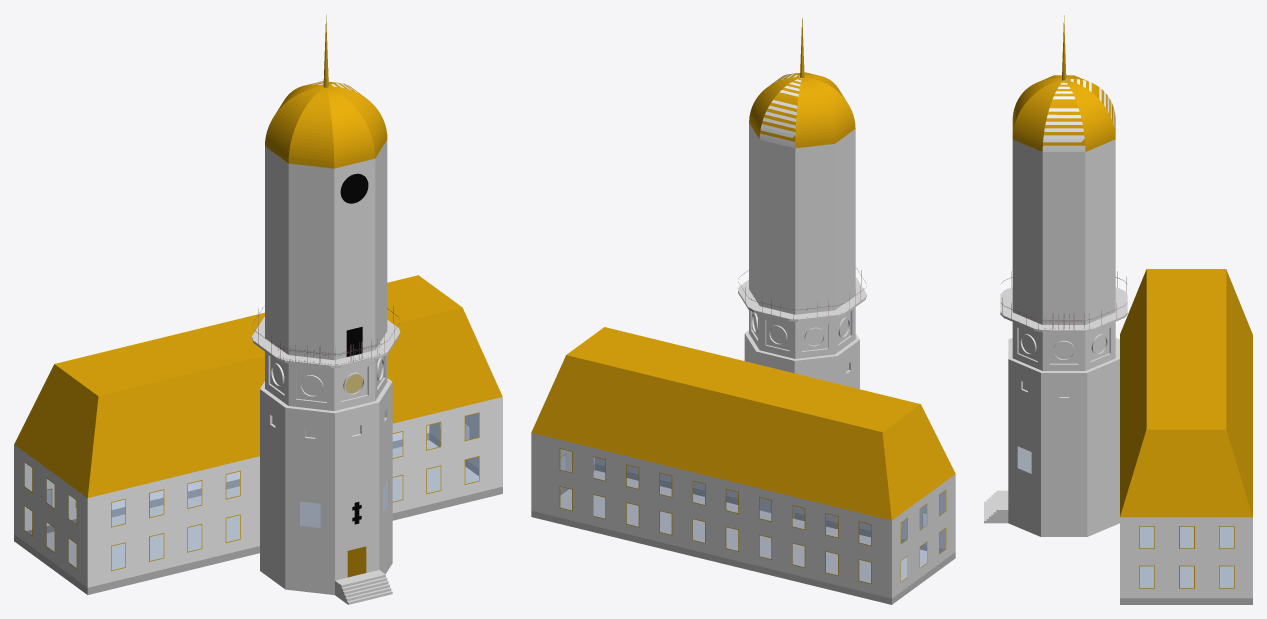
File: ratusha-mogilev.glb
The picture shows the model from 3 angles, left to right: view 1: azimuth 30°, elevation 25°; view 2: azimuth 150°, elevation 25°; view 3: azimuth 270°, elevation 25°; orthographic projection. The views are drawn at different scales.
Visible parts, largest first — view 1: Geom3D (×6), Geom3D_; view 2: Geom3D (×4), Geom3D_; view 3: Geom3D (×6), Geom3D_.
Part boxes in pixels (x1,y1,x2,y2): Geom3D (×6): (14, 15, 502, 594); Geom3D_: (14, 140, 400, 604); Geom3D (×4): (531, 18, 955, 604); Geom3D_: (531, 123, 955, 598); Geom3D (×6): (1000, 15, 1252, 604); Geom3D_: (984, 139, 1127, 536).
Bounding box in the file's own units: 1.11 × 1.41 × 0.6874.
9 materials, 2 textured.
